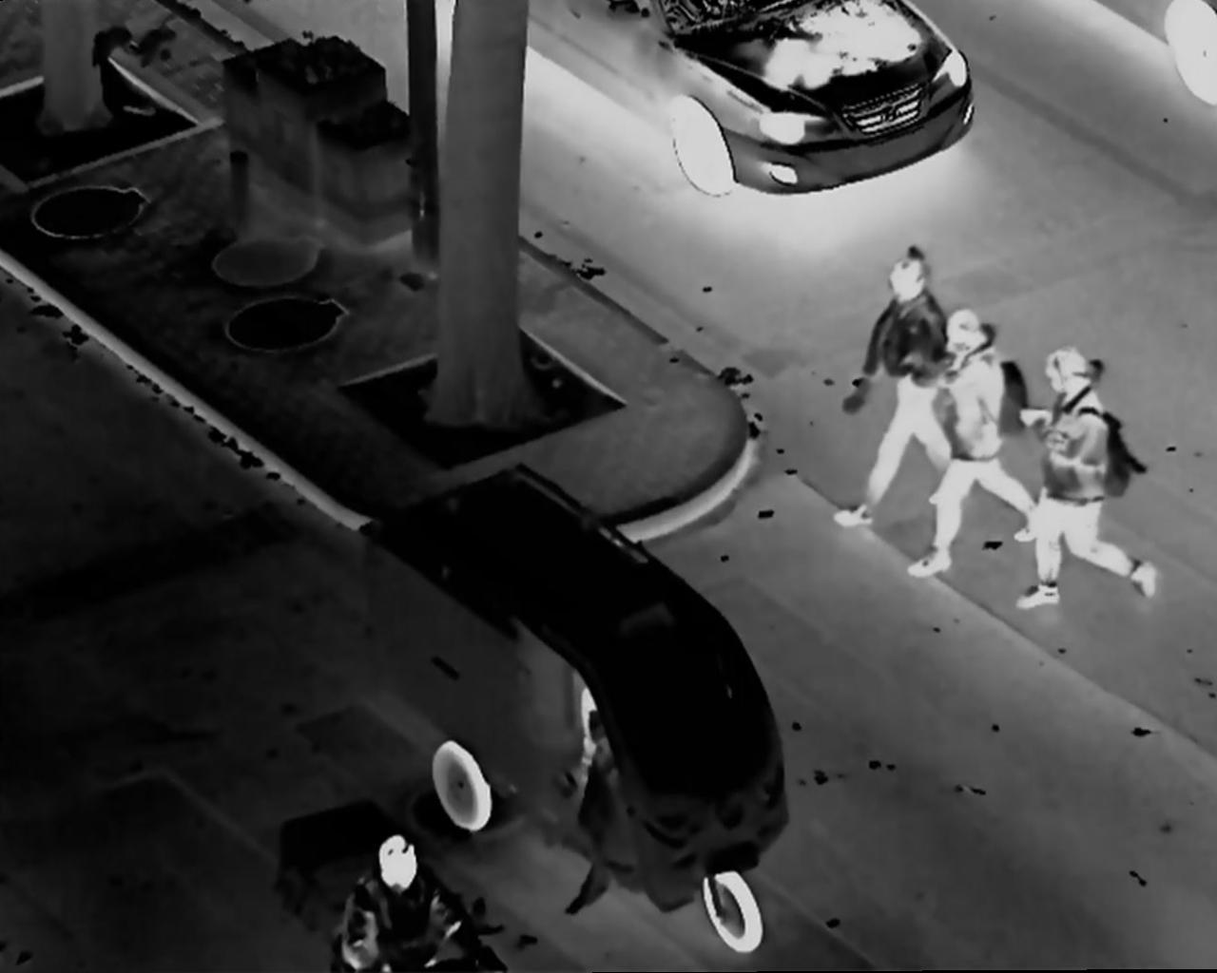person: (1025, 350, 1157, 610), (846, 241, 944, 535), (927, 314, 1032, 573), (325, 825, 499, 973)
